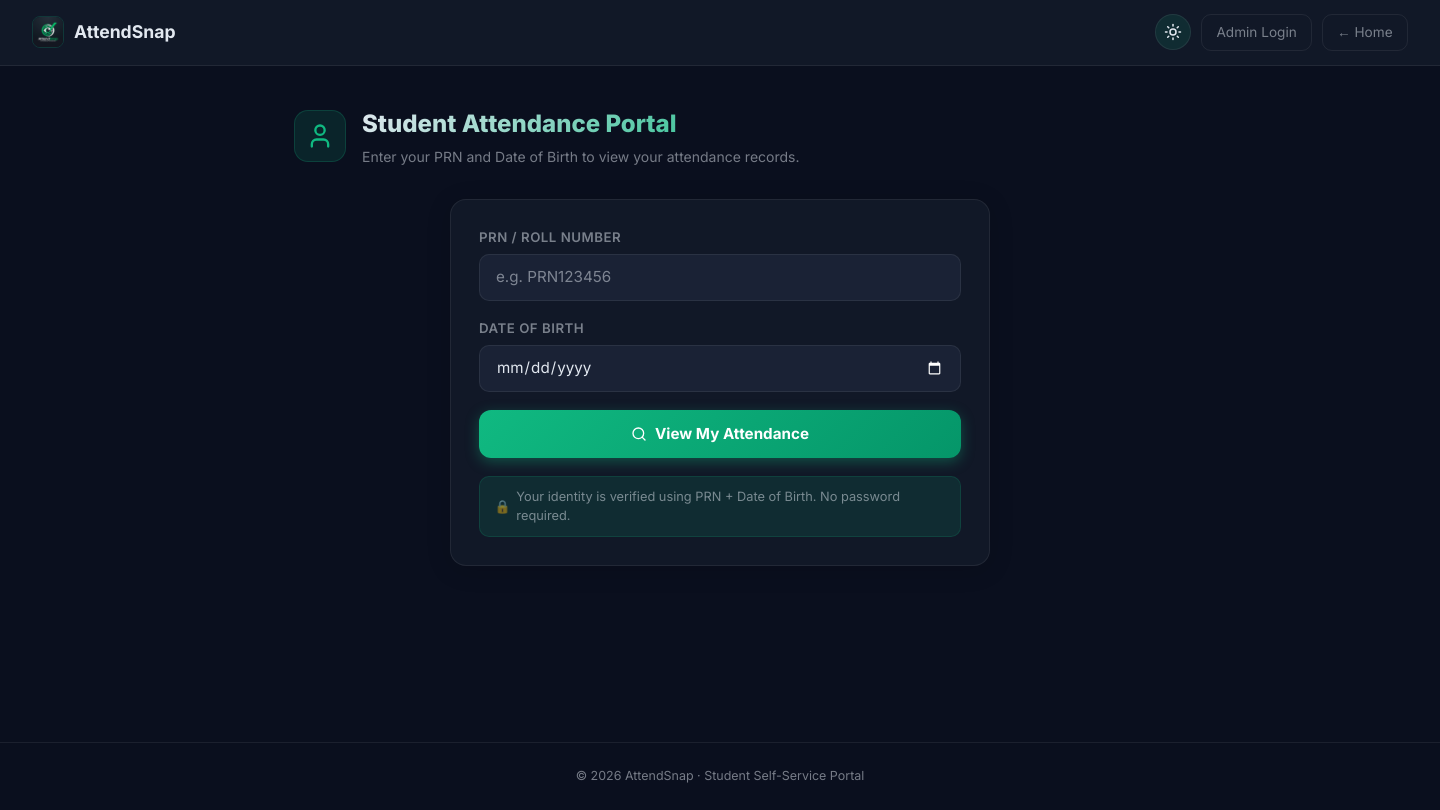
Test case: StudentPortal — Error States › shows error for unknown PRN (404)
Type "FAKE999" into the field labelled "PRN / Roll Number".
click(720, 278); type("FAKE999")  # box [479,254,961,301]
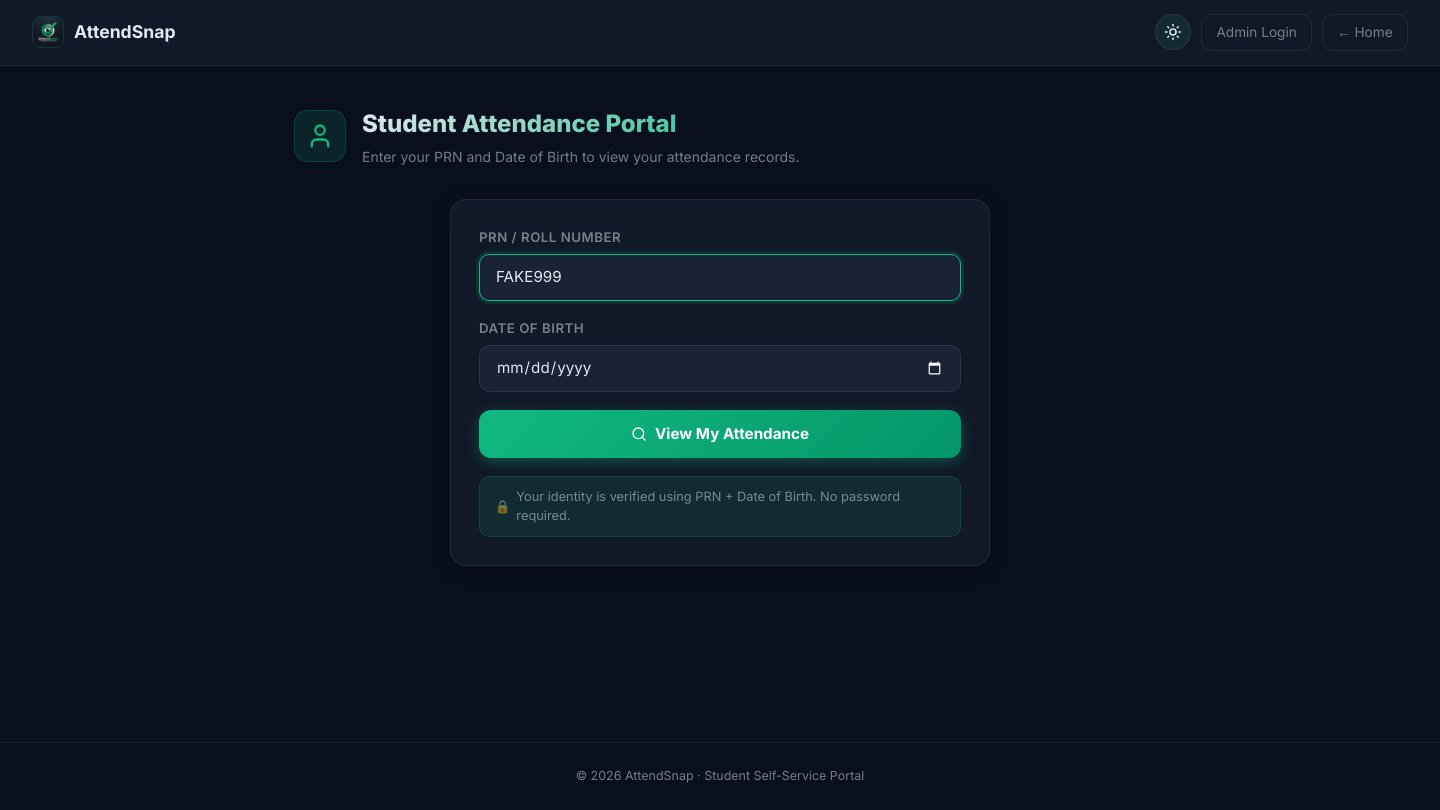
Type "2002-01-01" into the date field labelled "Date of Birth".
click(720, 369); type("2002-01-01")  # box [479,345,961,392]
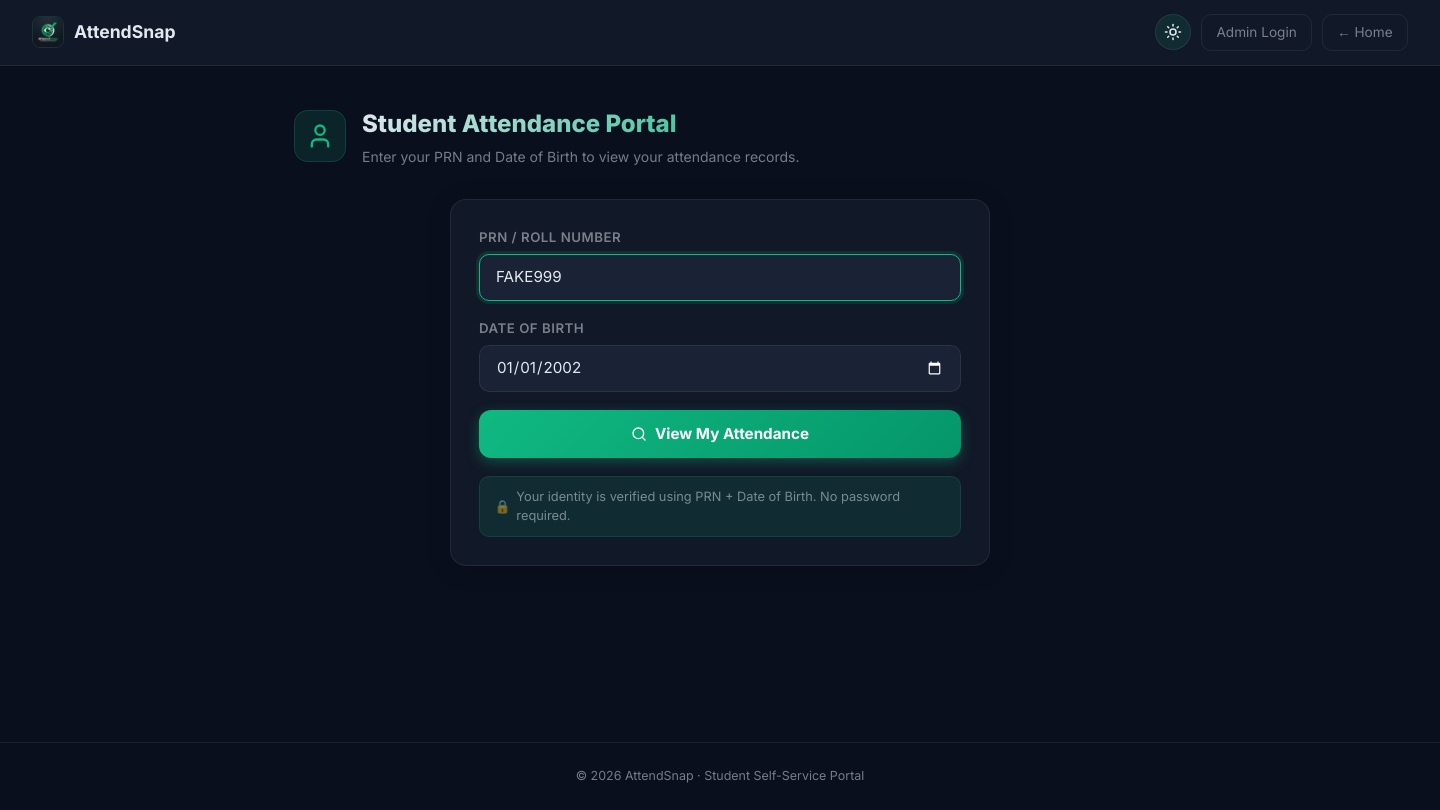
Submit the form labelled "PRN / Roll Number Date of Birth View My Attendance", box [479,228,961,458]
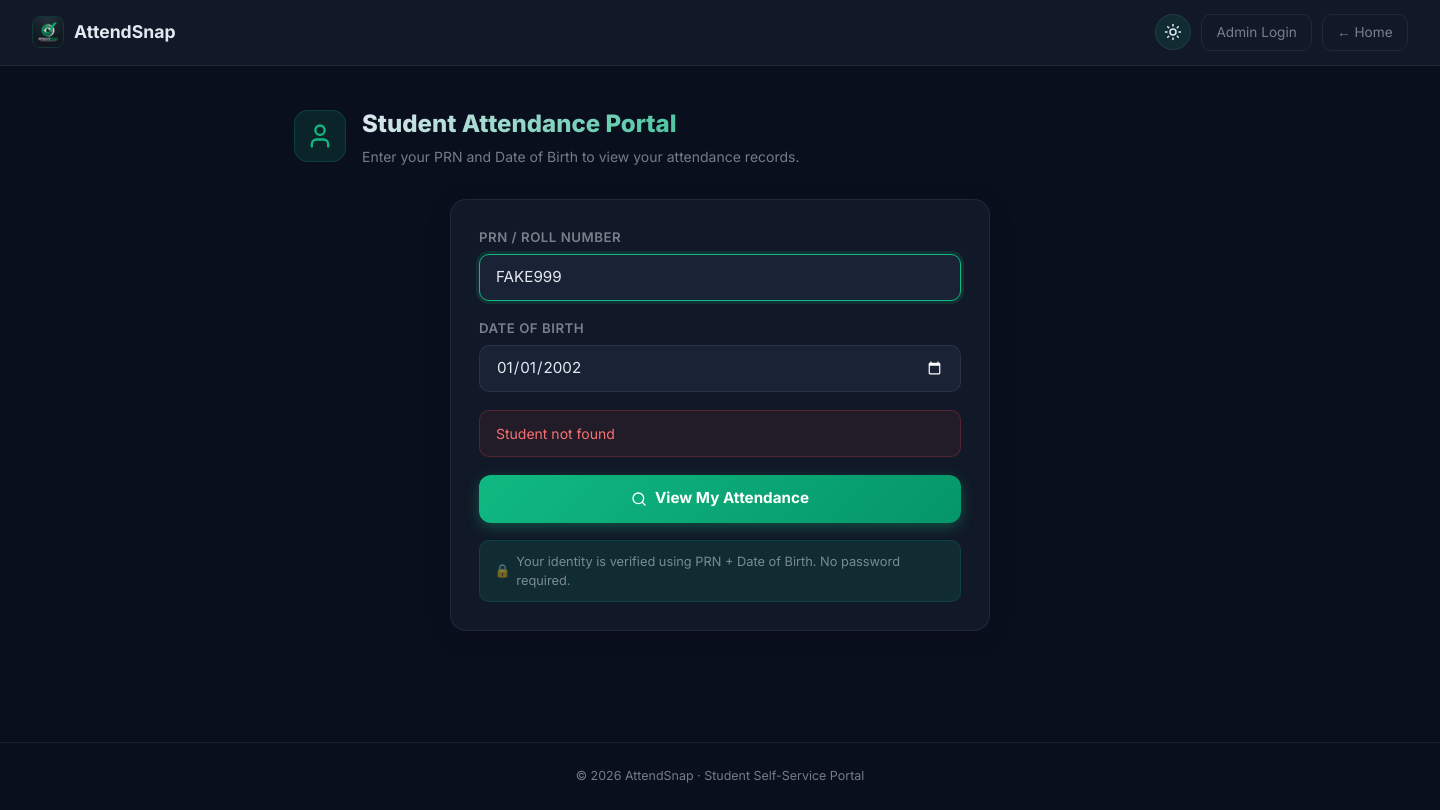
Check: the text "Student not found" is shown, box [479,410,961,457]
